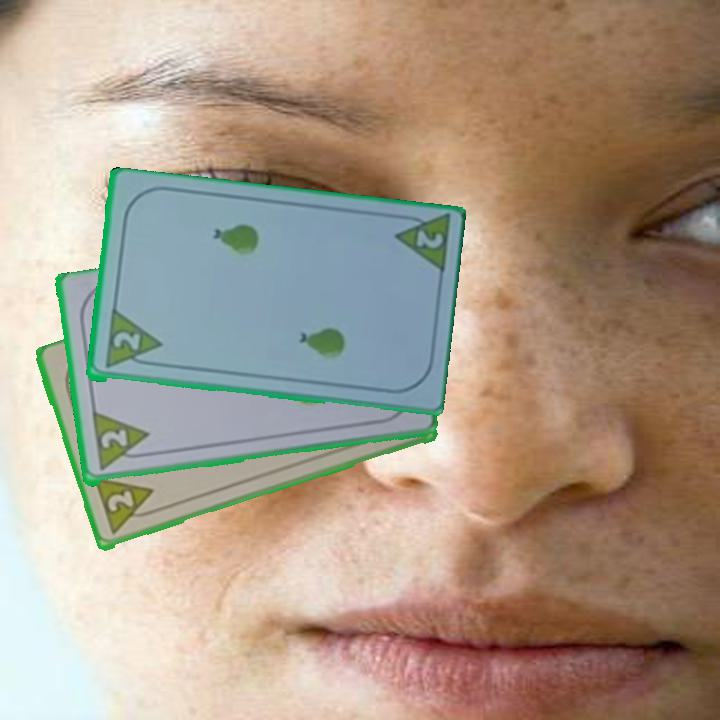2p: (90, 475, 163, 539), (390, 211, 451, 279), (101, 309, 163, 372), (96, 426, 130, 453)
